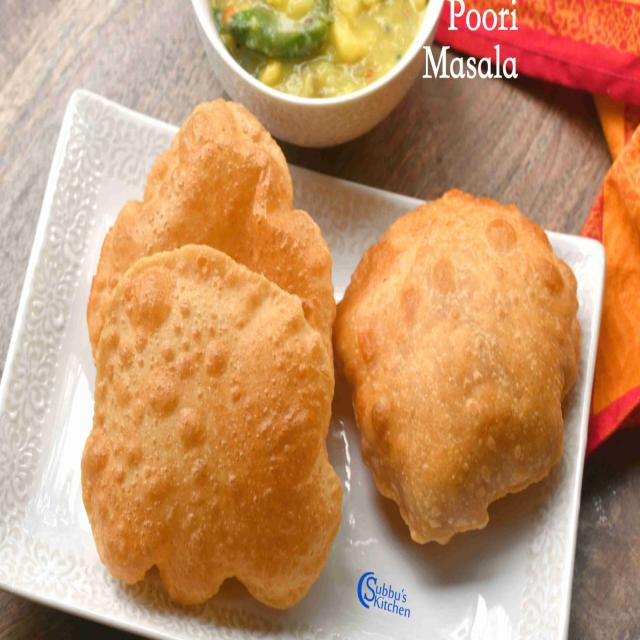poori: (76, 235, 346, 618), (330, 178, 592, 563), (85, 94, 348, 335)
